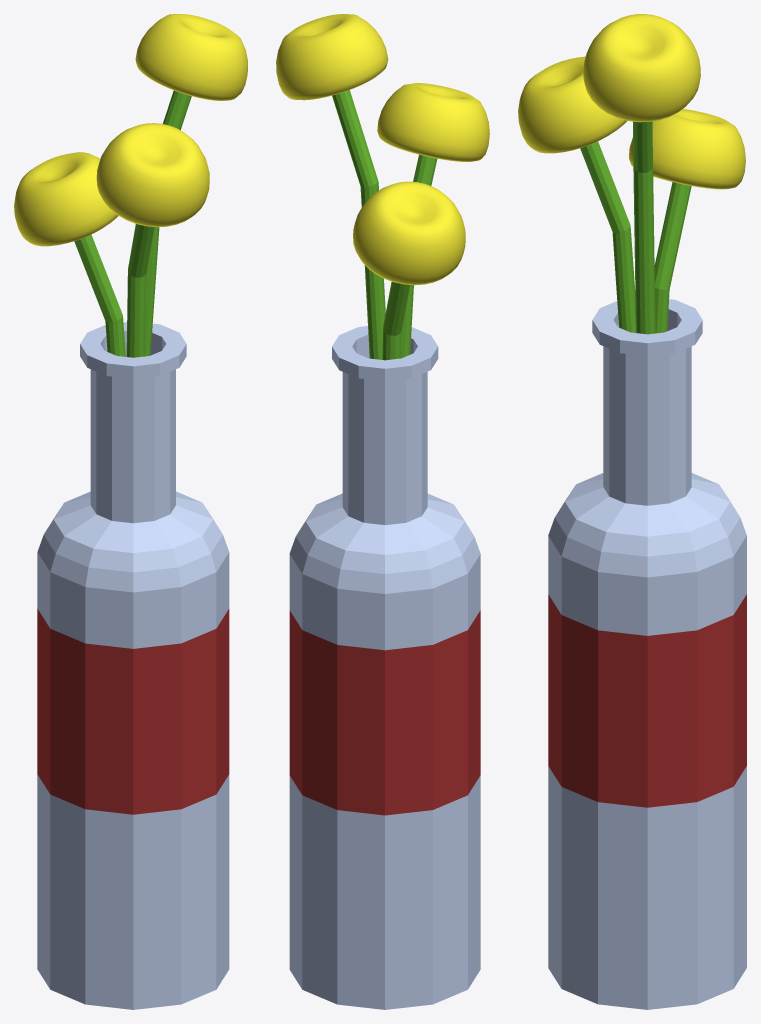
Rendered from chryzantemy.fbx.
The picture shows the model from 3 angles, left to right: view 1: azimuth 30°, elevation 25°; view 2: azimuth 150°, elevation 25°; view 3: azimuth 270°, elevation 25°; orthographic projection. The views are drawn at different scales.
Parts seen in each view (by area): view 1: Cylinder.022; view 2: Cylinder.022; view 3: Cylinder.022.
Part boxes in pixels (box(x1,y1,x2,y2)): Cylinder.022: box(14, 14, 247, 1009); Cylinder.022: box(276, 14, 489, 1009); Cylinder.022: box(518, 14, 746, 1009).
Bounding box in the file's own units: 15.12 × 68.84 × 14.69.
